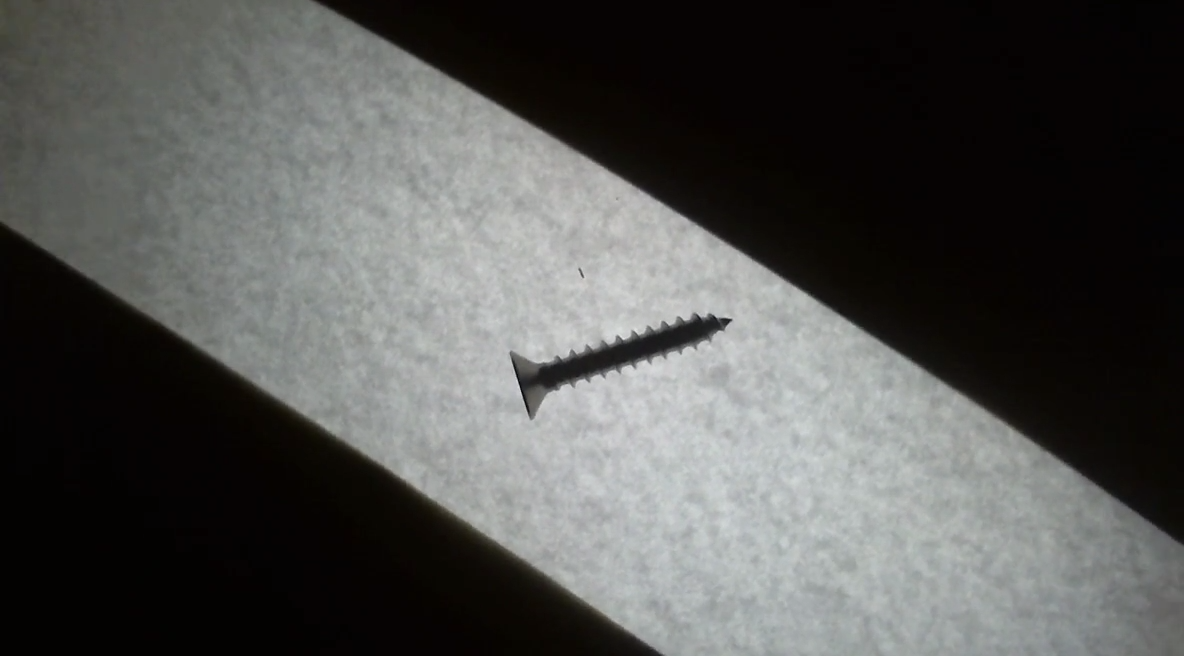S001: (491, 294, 757, 427)
